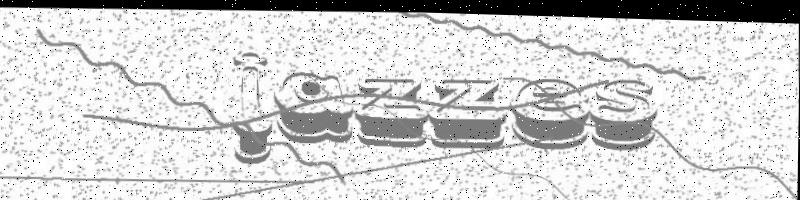a: (274, 69, 355, 142)
e: (510, 74, 591, 147)
i: (230, 49, 274, 163)
s: (589, 74, 659, 148)
z: (425, 75, 508, 147), (356, 75, 429, 145)
